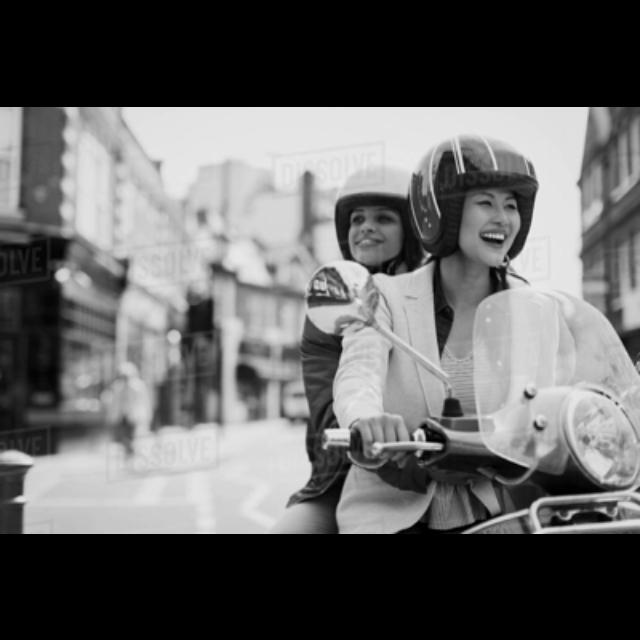With Helmet: (410, 132, 542, 268), (339, 166, 417, 264)
